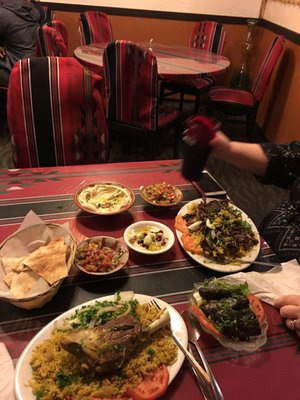sushi: (14, 291, 193, 400), (0, 218, 77, 310), (74, 235, 130, 277), (123, 221, 175, 262), (74, 181, 135, 215), (140, 182, 183, 207)
